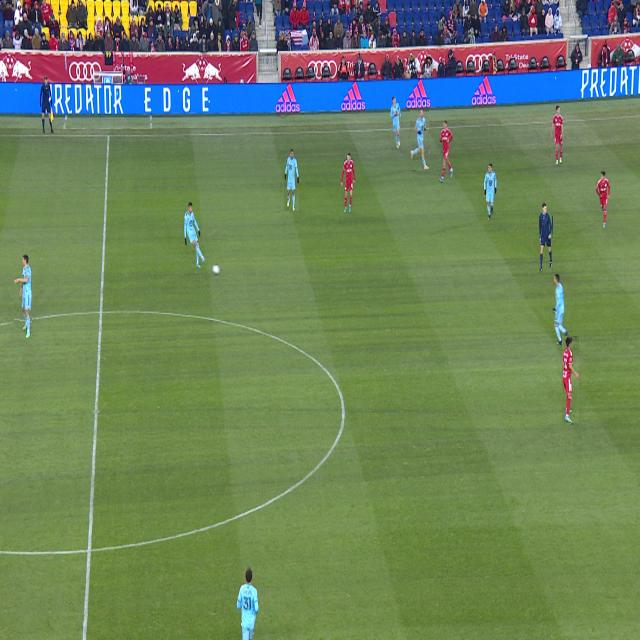football: (213, 265, 220, 274)
player: (237, 567, 259, 640), (14, 254, 32, 339), (184, 202, 205, 268), (563, 337, 579, 423), (411, 109, 429, 170), (553, 273, 568, 345), (340, 153, 355, 213), (285, 149, 299, 211), (439, 120, 453, 182), (596, 170, 610, 229), (484, 163, 497, 220), (552, 106, 563, 165), (391, 96, 400, 149)
referee: (540, 203, 552, 273)
